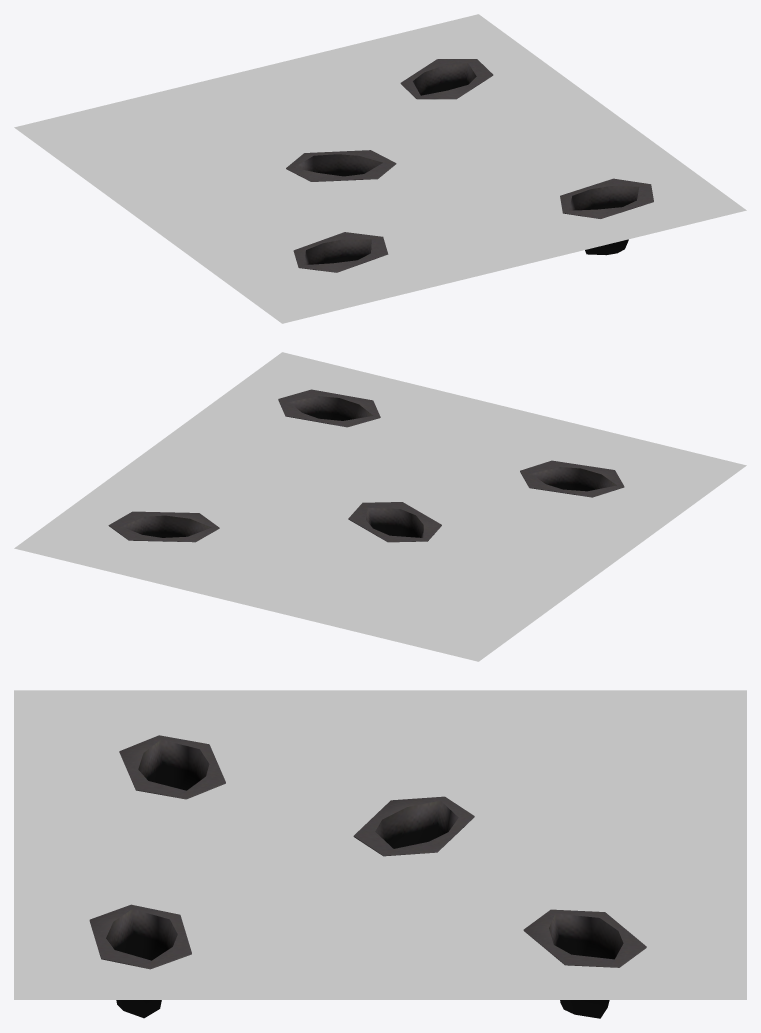
Rendered from YamaWoobsheObrywTipo.fbx.
The picture shows the model from 3 angles, top to bottom: view 1: azimuth 30°, elevation 25°; view 2: azimuth 150°, elevation 25°; view 3: azimuth 270°, elevation 25°; orthographic projection. The views are drawn at different scales.
Parts seen in each view (by area): view 1: Plane__56_.001; view 2: Plane__56_.001; view 3: Plane__56_.001.
Boxes of the visible parts, box(x1,y1,x2,y2) form: Plane__56_.001: box(14, 14, 746, 323); Plane__56_.001: box(14, 352, 746, 661); Plane__56_.001: box(14, 690, 746, 1018).
Bounding box in the file's own units: 40000 × 4112 × 40000.
